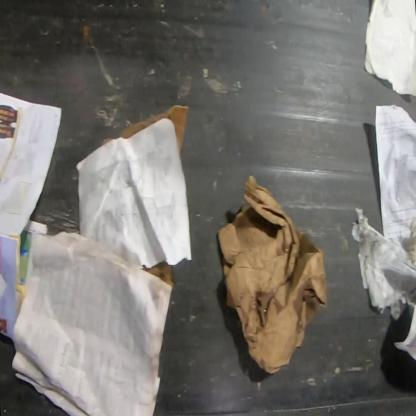cardboard: (218, 174, 329, 376), (122, 104, 188, 158), (141, 260, 174, 287)
